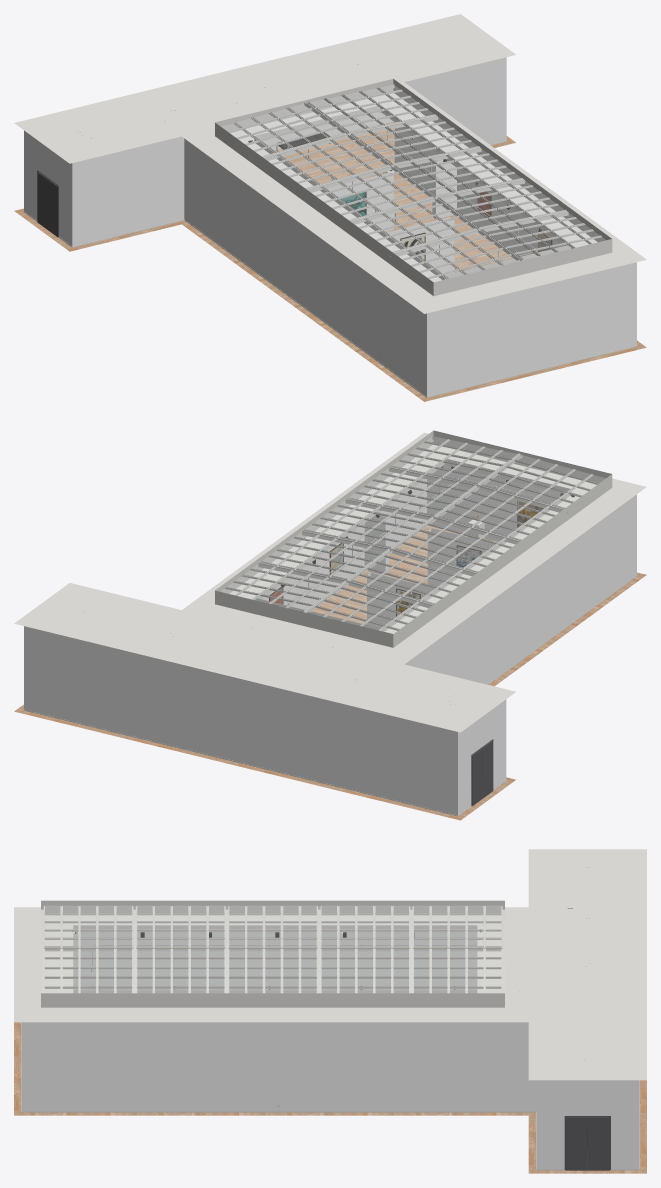
File: gallery.glb
3 renders of one model, top to bottom at view 1: azimuth 30°, elevation 25°; view 2: azimuth 150°, elevation 25°; view 3: azimuth 270°, elevation 25°, orthographic. The views are drawn at different scales.
Parts seen in each view (by area): view 1: gallery_walls, gallery_ceiling, gallery_window_glass, gallery_skylight_frame, gallery_floor, gallery_partitions, gallery_doors, gallery_trims; view 2: gallery_walls, gallery_ceiling, gallery_window_glass, gallery_skylight_frame, gallery_floor, gallery_partitions, gallery_doors, gallery_trims; view 3: gallery_walls, gallery_ceiling, gallery_window_glass, gallery_skylight_frame, gallery_floor, gallery_doors, gallery_trims, gallery_sprinklers.
Boxes of the visible parts, <box> form: gallery_walls: <box>24,57,636,396</box>; gallery_ceiling: <box>14,14,646,313</box>; gallery_window_glass: <box>222,85,605,281</box>; gallery_skylight_frame: <box>220,84,612,290</box>; gallery_floor: <box>14,121,646,401</box>; gallery_partitions: <box>327,159,456,274</box>; gallery_doors: <box>37,170,58,237</box>; gallery_trims: <box>23,121,637,397</box>; gallery_walls: <box>24,465,636,815</box>; gallery_ceiling: <box>14,430,646,732</box>; gallery_window_glass: <box>221,436,605,633</box>; gallery_skylight_frame: <box>220,436,605,639</box>; gallery_floor: <box>14,525,646,820</box>; gallery_partitions: <box>364,515,494,628</box>; gallery_doors: <box>471,739,493,805</box>; gallery_trims: <box>23,532,637,816</box>; gallery_walls: <box>21,932,639,1169</box>; gallery_ceiling: <box>14,849,646,1080</box>; gallery_window_glass: <box>45,906,501,992</box>; gallery_skylight_frame: <box>41,905,504,993</box>; gallery_floor: <box>14,1022,646,1173</box>; gallery_doors: <box>564,1116,610,1170</box>; gallery_trims: <box>21,1022,639,1170</box>; gallery_sprinklers: <box>91,908,572,990</box>.
Size of what is drawn, in the model's own units: 21.26 by 4.77 by 24.6.
31 materials, 12 textured.
